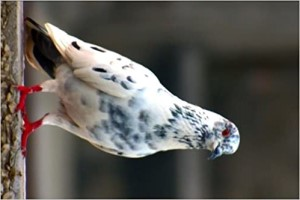pigeon: (14, 13, 243, 164)
